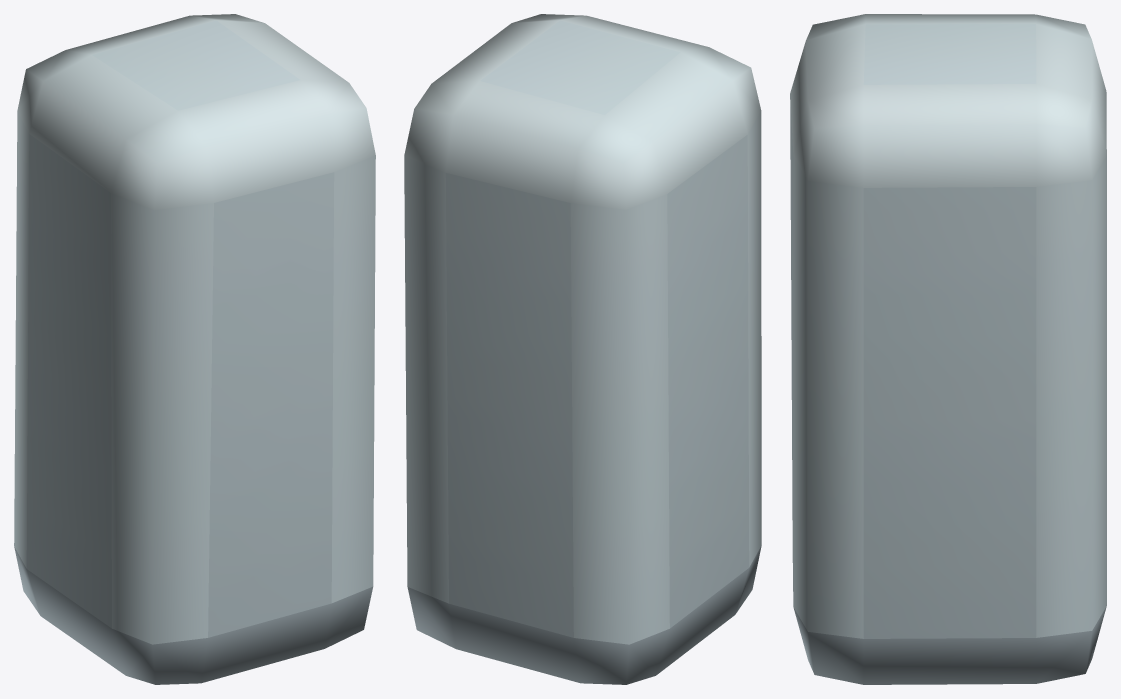
The model's file is fence_short_pole_LOD_setup.fbx.
3 views of the same model, side by side, from view 1: azimuth 30°, elevation 25°; view 2: azimuth 150°, elevation 25°; view 3: azimuth 270°, elevation 25° (orthographic). The views are drawn at different scales.
Visible parts, largest first — view 1: fence_short_pole_LOD0; view 2: fence_short_pole_LOD0; view 3: fence_short_pole_LOD0.
Part boxes in pixels (left/top/right/bottom): fence_short_pole_LOD0: left=14, top=14, right=375, bottom=684; fence_short_pole_LOD0: left=404, top=14, right=761, bottom=684; fence_short_pole_LOD0: left=790, top=14, right=1106, bottom=684.
Size of what is drawn, in the model's own units: 26.7 by 56.87 by 27.39.
